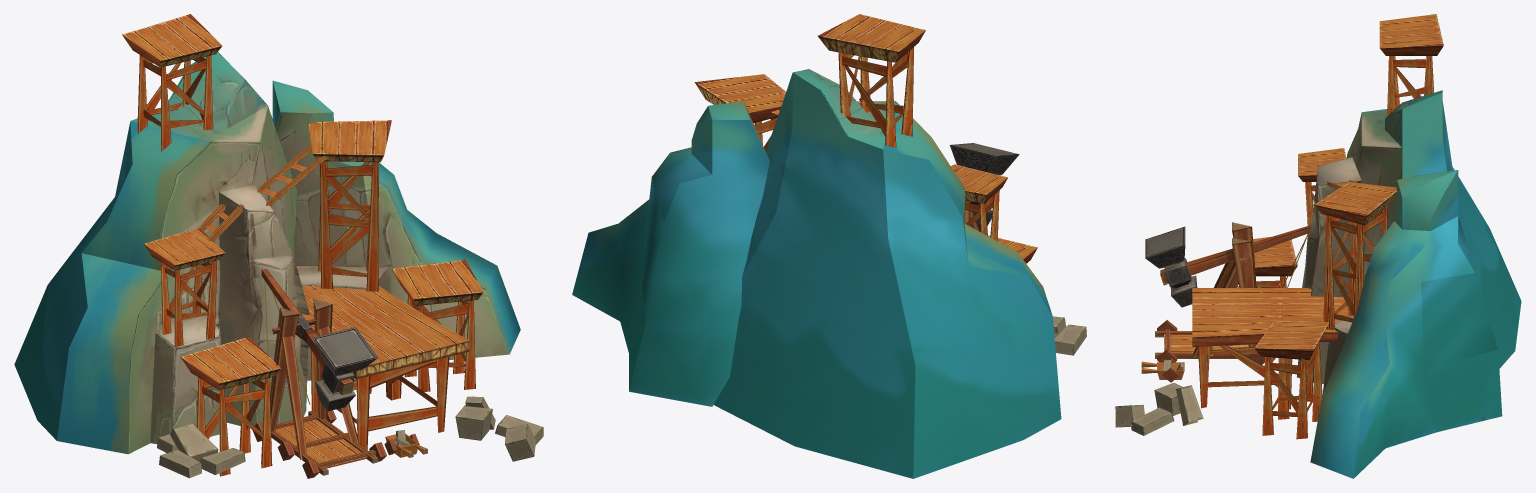
Rendered from Stone.FBX.
3 views of the same model, side by side, from view 1: azimuth 30°, elevation 25°; view 2: azimuth 150°, elevation 25°; view 3: azimuth 270°, elevation 25° (orthographic). The views are drawn at different scales.
Visible parts, largest first — view 1: stone, stone01; view 2: stone, stone01; view 3: stone, stone01.
Boxes of the visible parts, box(x1,y1,x2,y2) form: stone: box(14, 14, 543, 478); stone01: box(261, 269, 377, 411); stone: box(572, 14, 1086, 478); stone01: box(949, 143, 1019, 231); stone: box(1115, 14, 1521, 478); stone01: box(1145, 225, 1310, 307).
Bounding box in the file's own units: 176 × 150 × 132.
